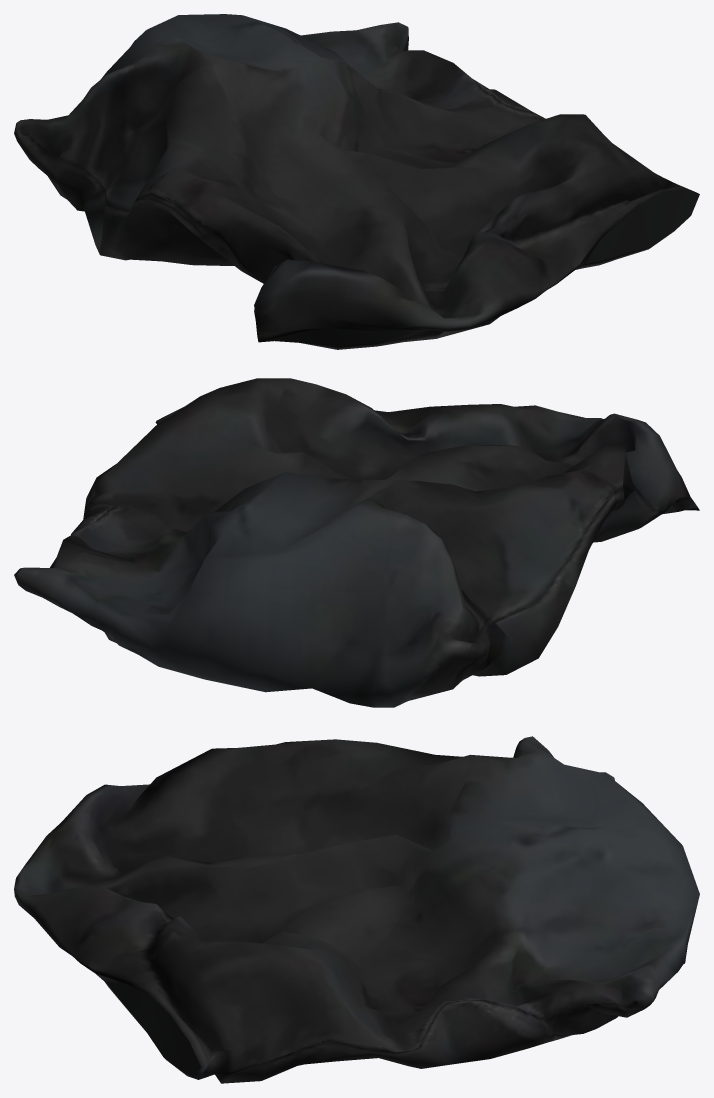
Rendered from prisonerhood_worldmodel.glb.
3 renders of one model, top to bottom at view 1: azimuth 30°, elevation 25°; view 2: azimuth 150°, elevation 25°; view 3: azimuth 270°, elevation 25°, orthographic. The views are drawn at different scales.
Parts seen in each view (by area): view 1: PrisonerHood_WM_LOD0; view 2: PrisonerHood_WM_LOD0; view 3: PrisonerHood_WM_LOD0.
Boxes of the visible parts, box(x1,y1,x2,y2) form: PrisonerHood_WM_LOD0: box(14, 14, 699, 349); PrisonerHood_WM_LOD0: box(14, 378, 699, 707); PrisonerHood_WM_LOD0: box(14, 736, 699, 1083).
Size of the model in its own units: 0.3103 by 0.0955 by 0.3604.
1 material, 1 textured.
